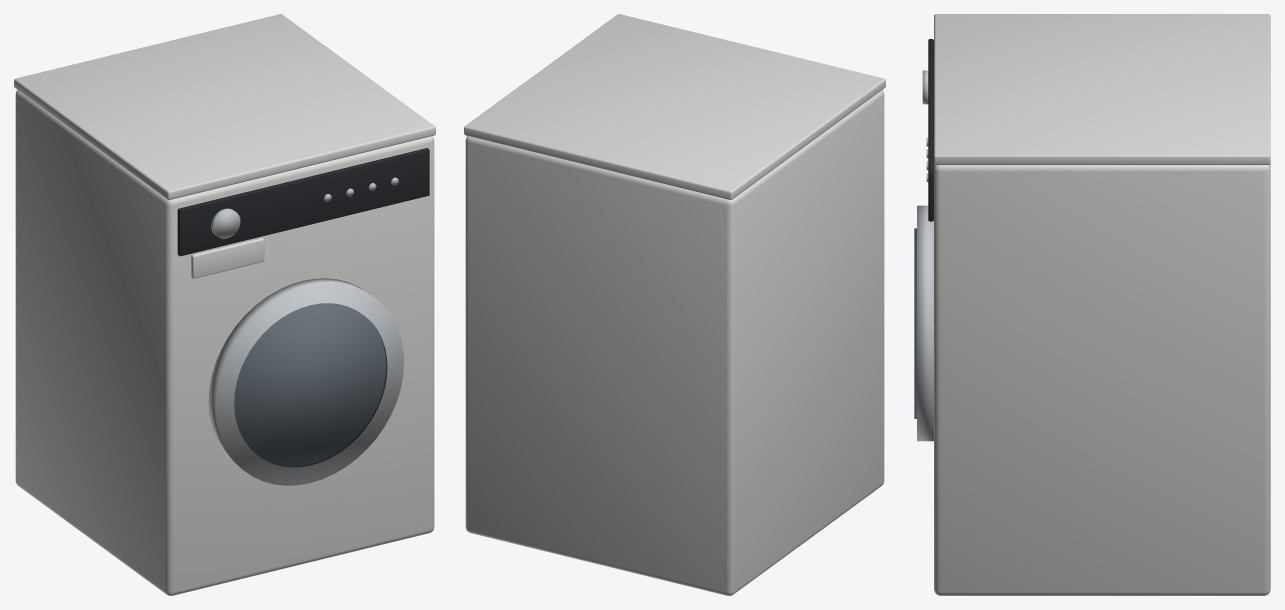
Rendered from bl_washing_machine.glb.
3 renders of one model, left to right at view 1: azimuth 30°, elevation 25°; view 2: azimuth 150°, elevation 25°; view 3: azimuth 270°, elevation 25°, orthographic. The views are drawn at different scales.
Parts seen in each view (by area): view 1: body, top, doorRing, doorGlass, panel, drawer, knob; view 2: body, top; view 3: body, top, doorRing, panel, doorGlass.
Boxes of the visible parts, bbox=[...] form: body: bbox=[15, 90, 434, 595]; top: bbox=[14, 14, 435, 199]; doorRing: bbox=[208, 278, 403, 485]; doorGlass: bbox=[234, 303, 387, 467]; panel: bbox=[177, 148, 429, 256]; drawer: bbox=[191, 237, 264, 278]; knob: bbox=[211, 208, 240, 238]; body: bbox=[465, 90, 884, 595]; top: bbox=[464, 14, 885, 199]; body: bbox=[934, 164, 1270, 595]; top: bbox=[934, 14, 1270, 164]; doorRing: bbox=[917, 205, 933, 441]; panel: bbox=[928, 39, 933, 221]; doorGlass: bbox=[914, 228, 916, 418].
Bounding box in the file's own units: 0.6 × 0.87 × 0.635.
